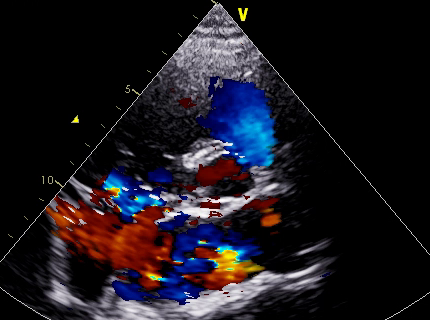TR: (96, 170, 185, 239)
